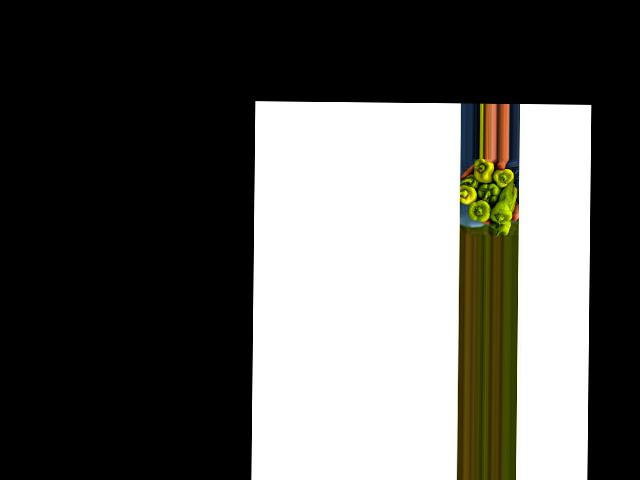bell_pepper: (471, 159, 493, 184)
